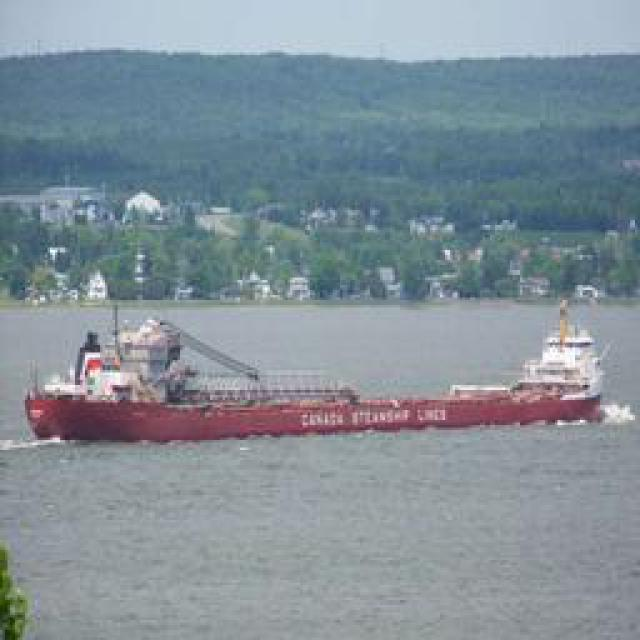Ship: (20, 309, 618, 452)
